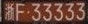F: (16, 3, 24, 21)
